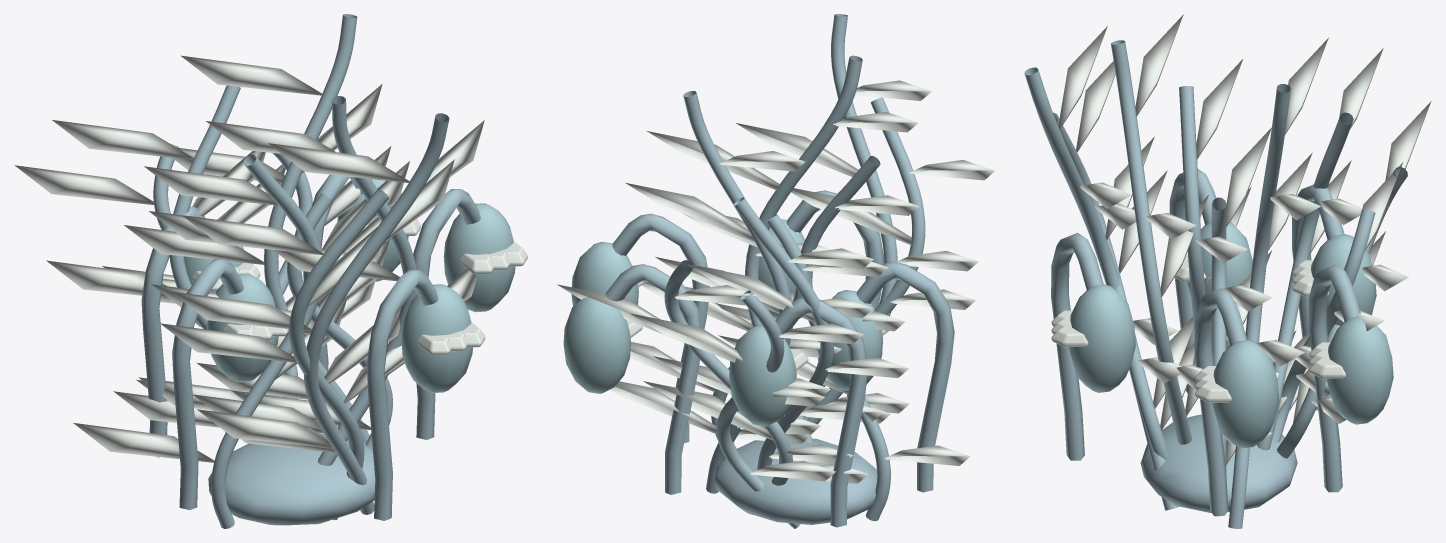
Rendered from bio_aquatic_frond_13_far.glb.
The picture shows the model from 3 angles, left to right: view 1: azimuth 30°, elevation 25°; view 2: azimuth 150°, elevation 25°; view 3: azimuth 270°, elevation 25°; orthographic projection. The views are drawn at different scales.
Visible parts, largest first — view 1: Ruffled aquatic blade.010, Holdfast, Ruffled aquatic blade.040, Ruffled aquatic blade.035, Ruffled aquatic blade.020, Flexible stipe.002, Ruffled aquatic blade.005, Ruffled aquatic blade.025, Arched fruit stem.002, Pendant spore capsule.002, Arched fruit stem.004, Flexible stipe.007 (+19 smaller); view 2: Holdfast, Ruffled aquatic blade.030, Ruffled aquatic blade.005, Pendant spore capsule.003, Arched fruit stem.004, Pendant spore capsule.001, Ruffled aquatic blade.010, Arched fruit stem.001, Arched fruit stem.003, Ruffled aquatic blade.025, Ruffled aquatic blade.015, Ruffled aquatic blade.040 (+17 smaller); view 3: Holdfast, Flexible stipe.005, Pendant spore capsule, Pendant spore capsule.002, Pendant spore capsule.003, Flexible stipe.008, Arched fruit stem.002, Arched fruit stem, Ruffled aquatic blade.010, Ruffled aquatic blade.035, Arched fruit stem.003, Flexible stipe.002 (+21 smaller).
Part boxes in pixels (x1=…): Ruffled aquatic blade.010: x1=170, y1=143, x2=454, y2=448; Holdfast: x1=208, y1=433, x2=375, y2=525; Ruffled aquatic blade.040: x1=124, y1=55, x2=389, y2=401; Ruffled aquatic blade.035: x1=160, y1=215, x2=404, y2=452; Ruffled aquatic blade.020: x1=73, y1=161, x2=409, y2=462; Flexible stipe.002: x1=304, y1=113, x2=449, y2=514; Ruffled aquatic blade.005: x1=46, y1=120, x2=295, y2=409; Ruffled aquatic blade.025: x1=193, y1=120, x2=484, y2=433; Arched fruit stem.002: x1=366, y1=269, x2=438, y2=520; Pendant spore capsule.002: x1=401, y1=284, x2=472, y2=392; Arched fruit stem.004: x1=172, y1=259, x2=243, y2=510; Flexible stipe.007: x1=288, y1=189, x2=388, y2=520; Holdfast: x1=714, y1=438, x2=877, y2=524; Ruffled aquatic blade.030: x1=610, y1=313, x2=863, y2=481; Ruffled aquatic blade.005: x1=653, y1=248, x2=908, y2=464; Pendant spore capsule.003: x1=563, y1=293, x2=630, y2=393; Arched fruit stem.004: x1=856, y1=261, x2=954, y2=492; Pendant spore capsule.001: x1=729, y1=325, x2=796, y2=426; Ruffled aquatic blade.010: x1=736, y1=80, x2=978, y2=413; Arched fruit stem.001: x1=775, y1=297, x2=867, y2=527; Arched fruit stem.003: x1=605, y1=264, x2=701, y2=494; Ruffled aquatic blade.025: x1=642, y1=112, x2=918, y2=421; Ruffled aquatic blade.015: x1=557, y1=284, x2=868, y2=483; Ruffled aquatic blade.040: x1=625, y1=151, x2=873, y2=435; Holdfast: x1=1140, y1=414, x2=1297, y2=512; Flexible stipe.005: x1=1111, y1=40, x2=1191, y2=444; Pendant spore capsule: x1=1211, y1=340, x2=1279, y2=448; Pendant spore capsule.002: x1=1068, y1=284, x2=1135, y2=392; Pendant spore capsule.003: x1=1326, y1=317, x2=1393, y2=424; Flexible stipe.008: x1=1228, y1=84, x2=1290, y2=528; Arched fruit stem.002: x1=1051, y1=232, x2=1103, y2=460; Arched fruit stem: x1=1194, y1=288, x2=1246, y2=516; Ruffled aquatic blade.010: x1=1058, y1=26, x2=1194, y2=408; Ruffled aquatic blade.035: x1=1076, y1=61, x2=1194, y2=430; Arched fruit stem.003: x1=1309, y1=264, x2=1360, y2=492; Flexible stipe.002: x1=1024, y1=67, x2=1178, y2=510.
Bounding box in the file's own units: 1.89 × 1.89 × 1.56.
